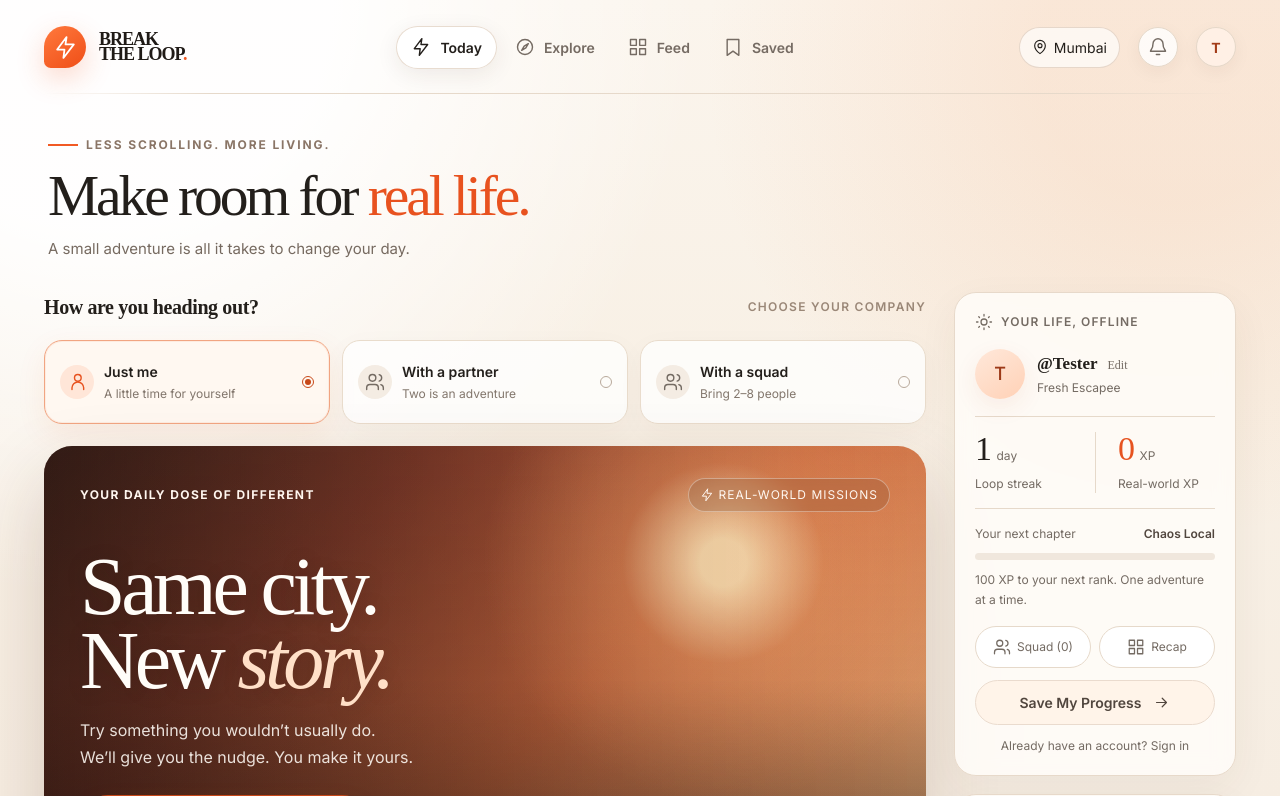
Scenario: save my progress (email linking, no real email sent) › surfaces the error and keeps the modal open when updateUser fails
Click the button "Save My Progress": (1095, 702) [975,680,1215,724]
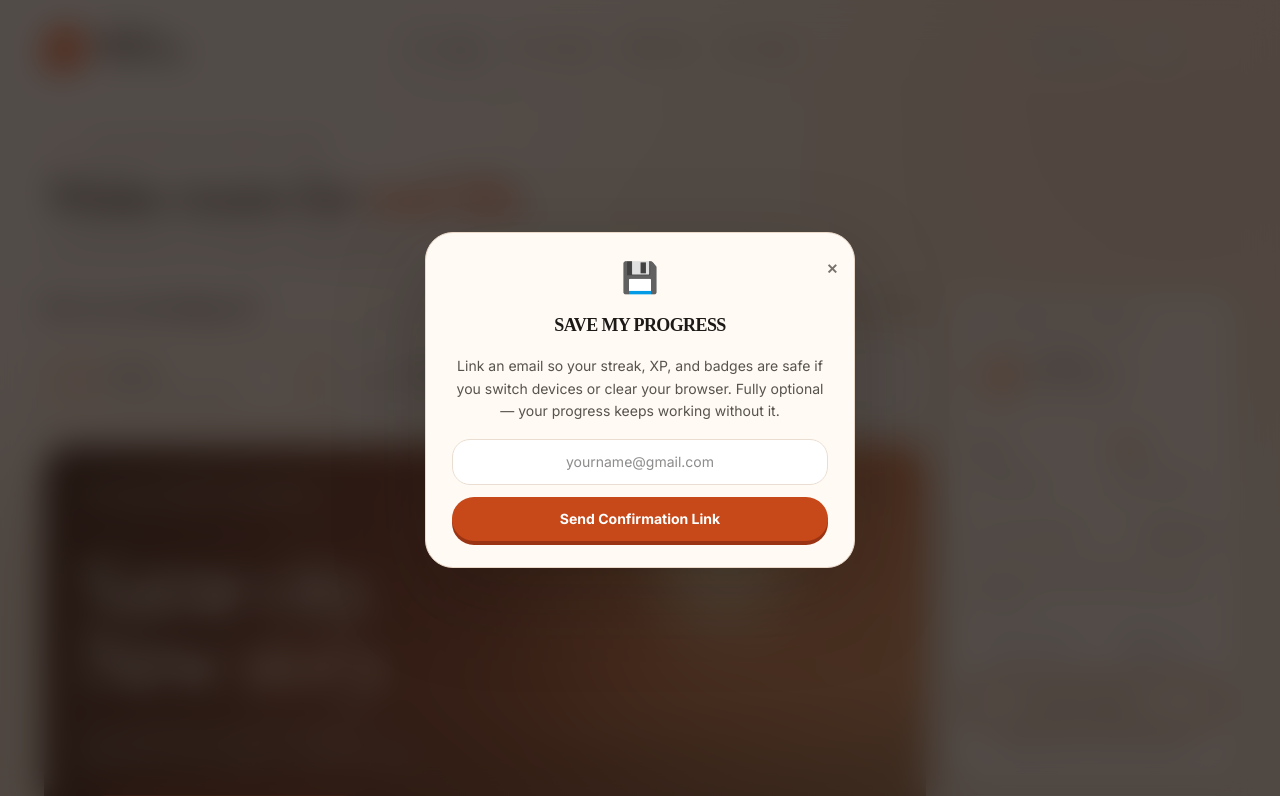
In the field with placeholder "yourname@gmail.com": (640, 462) [452,439,828,485], type "taken@example.com"
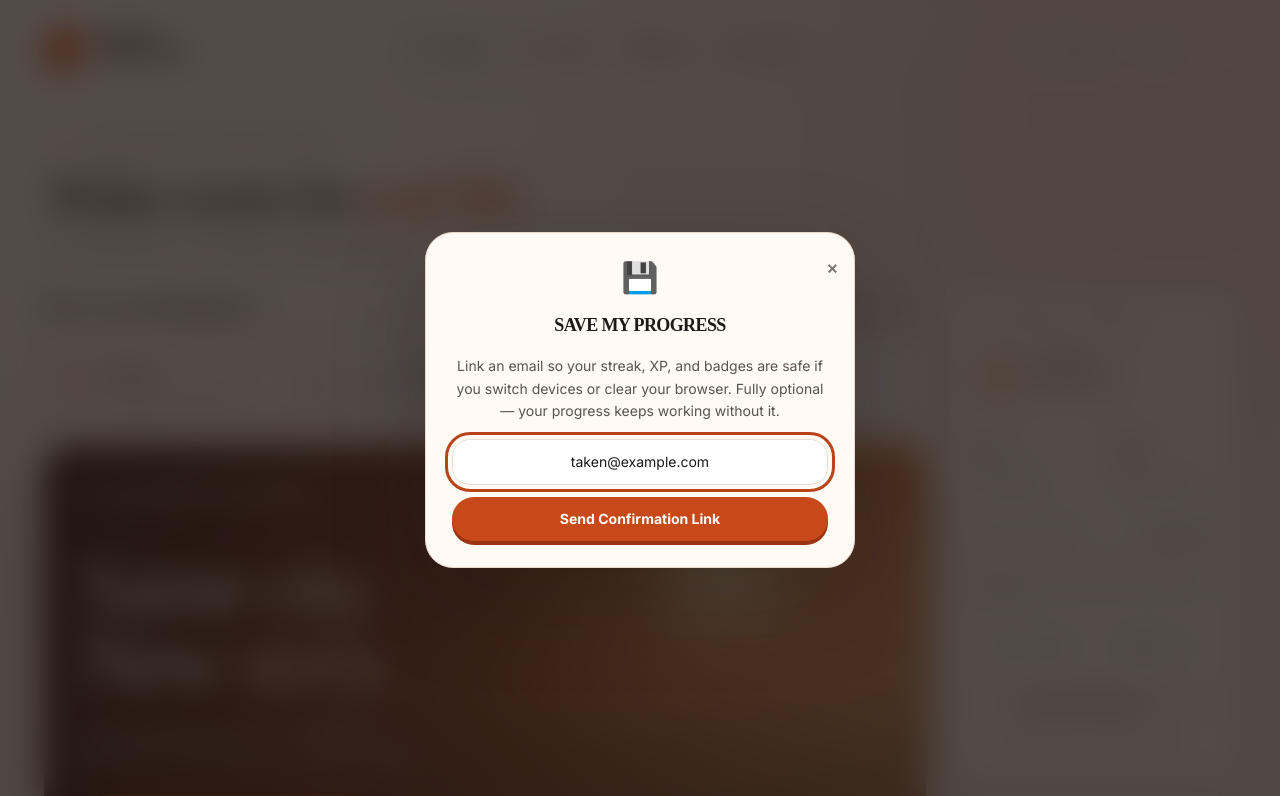
Click the button "Send Confirmation Link": (640, 519) [452,497,828,541]
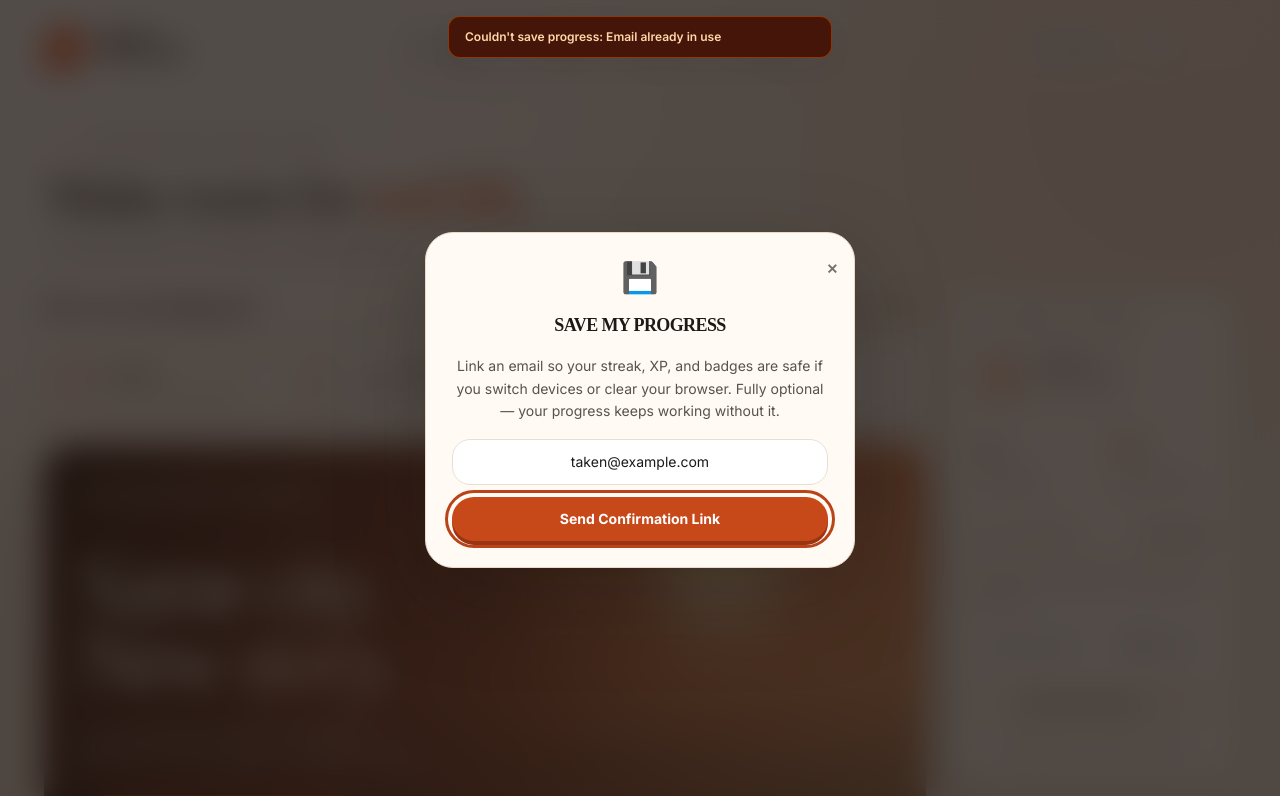
Expected: the heading "SAVE MY PROGRESS" is shown, [554,315,726,335]
Expected: the text "Couldn't save progress: Email already in use" is shown, [448,16,832,58]
